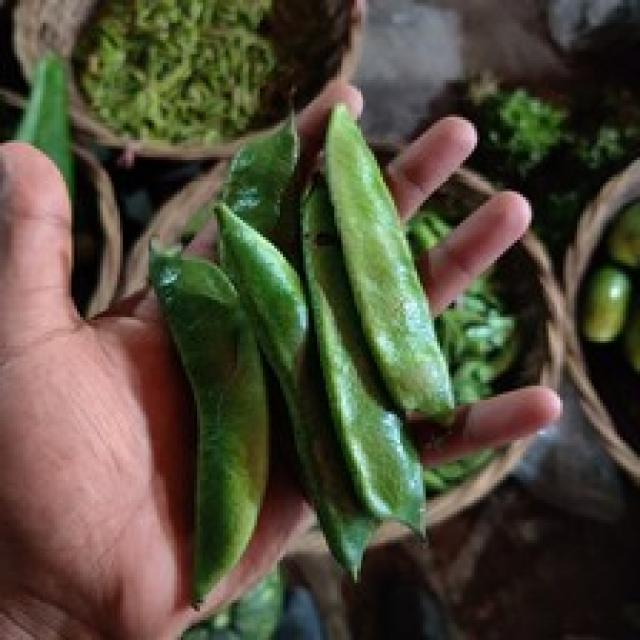Bean: (143, 97, 460, 606), (320, 100, 454, 426)
